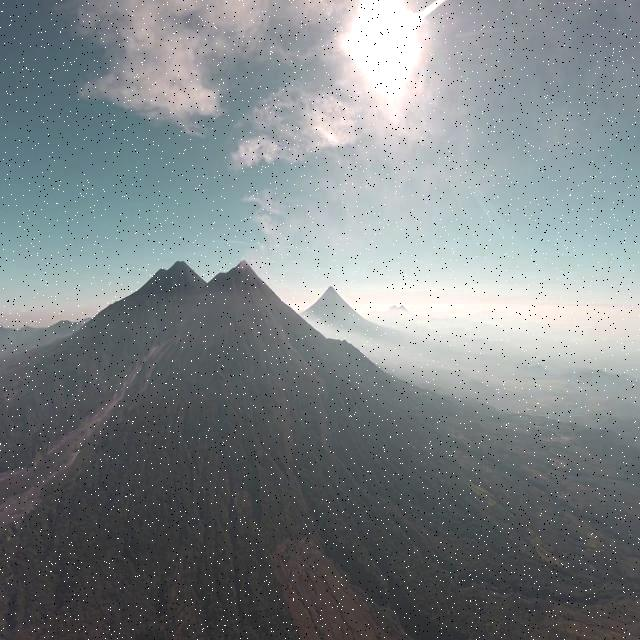Summit: (227, 256, 260, 276)
